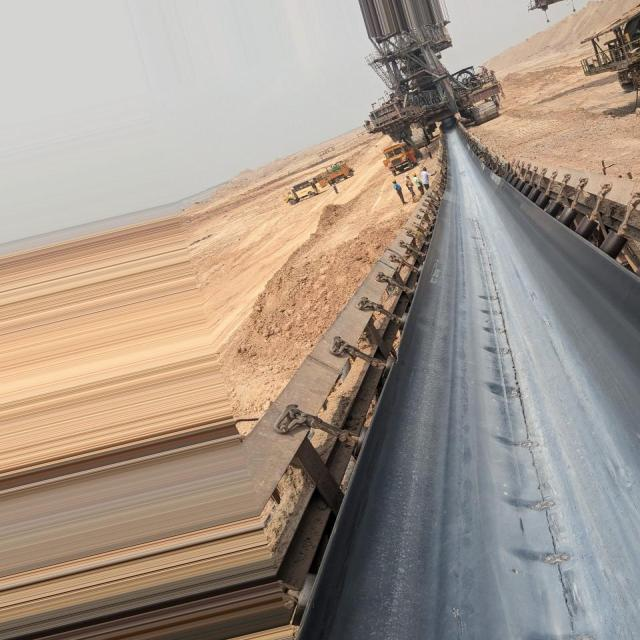Human: (390, 179, 406, 206), (422, 167, 437, 190), (403, 174, 415, 197), (412, 173, 422, 193)
Roller: (500, 173, 629, 258)
patch work: (468, 219, 588, 634)
